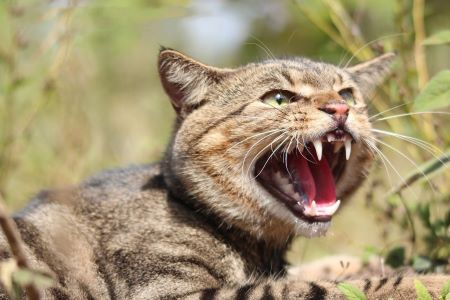Cat: (11, 34, 409, 300)
